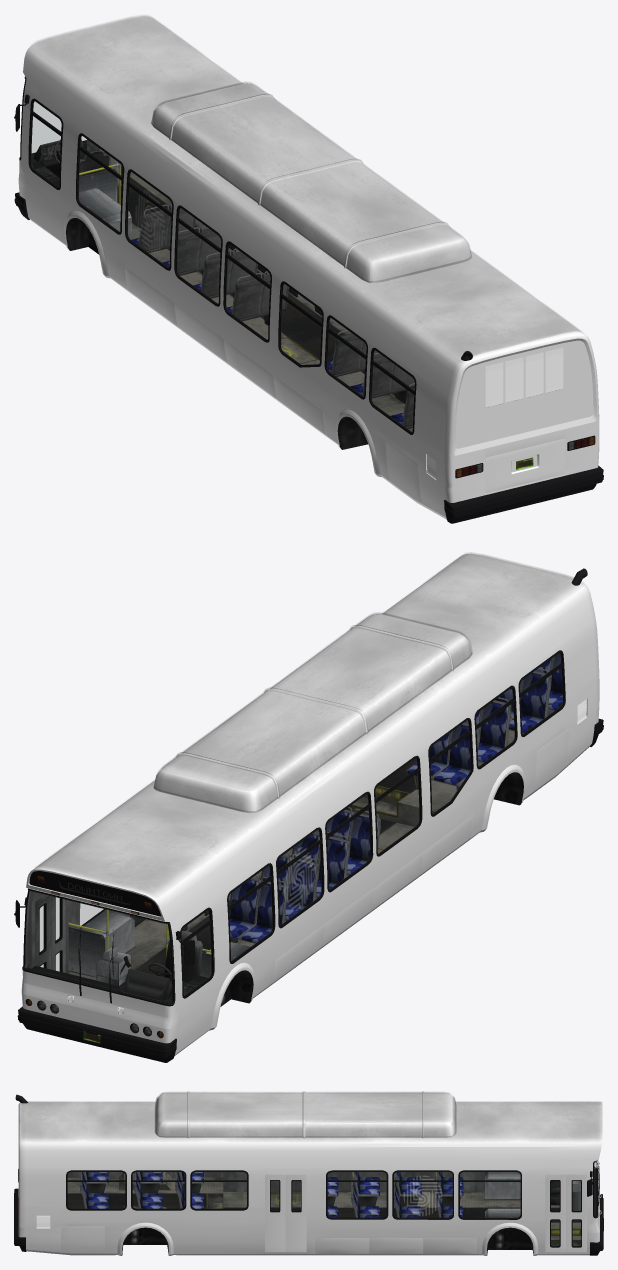
Rendered from bus.glb.
3 views of the same model, one above another, from view 1: azimuth 30°, elevation 25°; view 2: azimuth 150°, elevation 25°; view 3: azimuth 270°, elevation 25° (orthographic). The views are drawn at different scales.
Size of the model in its own units: 3.05 by 3.14 by 13.15.
Materials: 11 (10 with a texture image).
